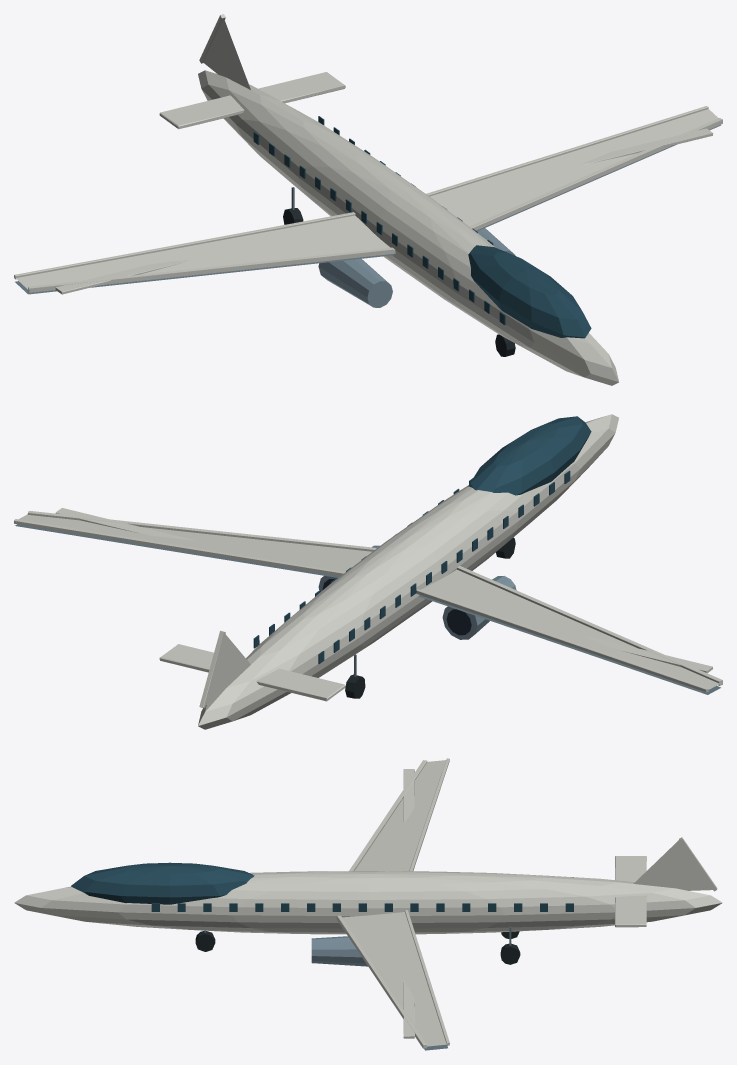
File: aircraft-airliner.lod1.glb
3 views of the same model, one above another, from view 1: azimuth 30°, elevation 25°; view 2: azimuth 150°, elevation 25°; view 3: azimuth 270°, elevation 25° (orthographic). The views are drawn at different scales.
Visible parts, largest first — view 1: aircraft-airliner__body, aircraft-airliner__aileron_-1, aircraft-airliner__aileron_1; view 2: aircraft-airliner__body, aircraft-airliner__aileron_1, aircraft-airliner__aileron_-1; view 3: aircraft-airliner__body, aircraft-airliner__aileron_1, aircraft-airliner__aileron_-1.
Part boxes in pixels (box(x1,y1,x2,y2)): aircraft-airliner__body: box(14, 14, 722, 385); aircraft-airliner__aileron_-1: box(55, 259, 193, 294); aircraft-airliner__aileron_1: box(579, 128, 713, 165); aircraft-airliner__body: box(14, 414, 722, 729); aircraft-airliner__aileron_1: box(55, 508, 195, 540); aircraft-airliner__aileron_-1: box(582, 635, 712, 673); aircraft-airliner__body: box(14, 758, 722, 1050); aircraft-airliner__aileron_1: box(403, 981, 414, 1038); aircraft-airliner__aileron_-1: box(403, 769, 414, 822).
Bounding box in the file's own units: 19.02 × 3.5 × 20.
